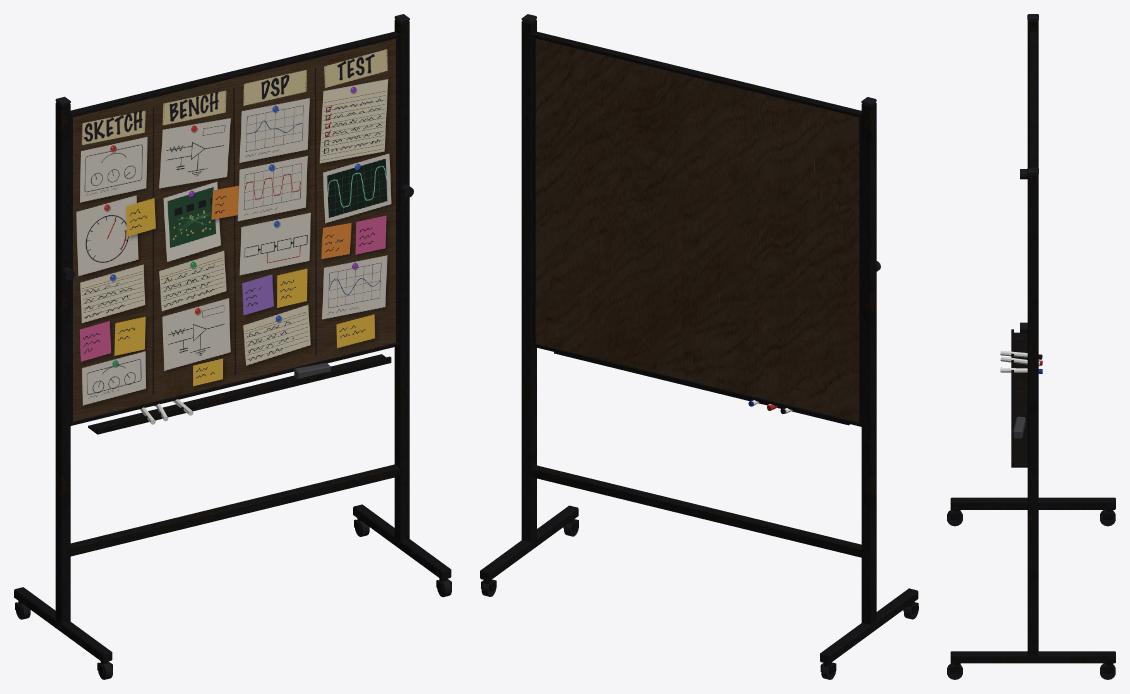
File: build-board.glb
The picture shows the model from 3 angles, left to right: view 1: azimuth 30°, elevation 25°; view 2: azimuth 150°, elevation 25°; view 3: azimuth 270°, elevation 25°; orthographic projection. The views are drawn at different scales.
Visible parts, largest first — view 1: build_board; view 2: build_board; view 3: build_board.
Boxes of the visible parts, left/top/right/bottom form: build_board: left=14, top=14, right=451, bottom=679; build_board: left=480, top=14, right=918, bottom=679; build_board: left=947, top=14, right=1115, bottom=679.
Bounding box in the file's own units: 1.2 × 1.8 × 0.5413.
Materials: 2 (2 with a texture image).
